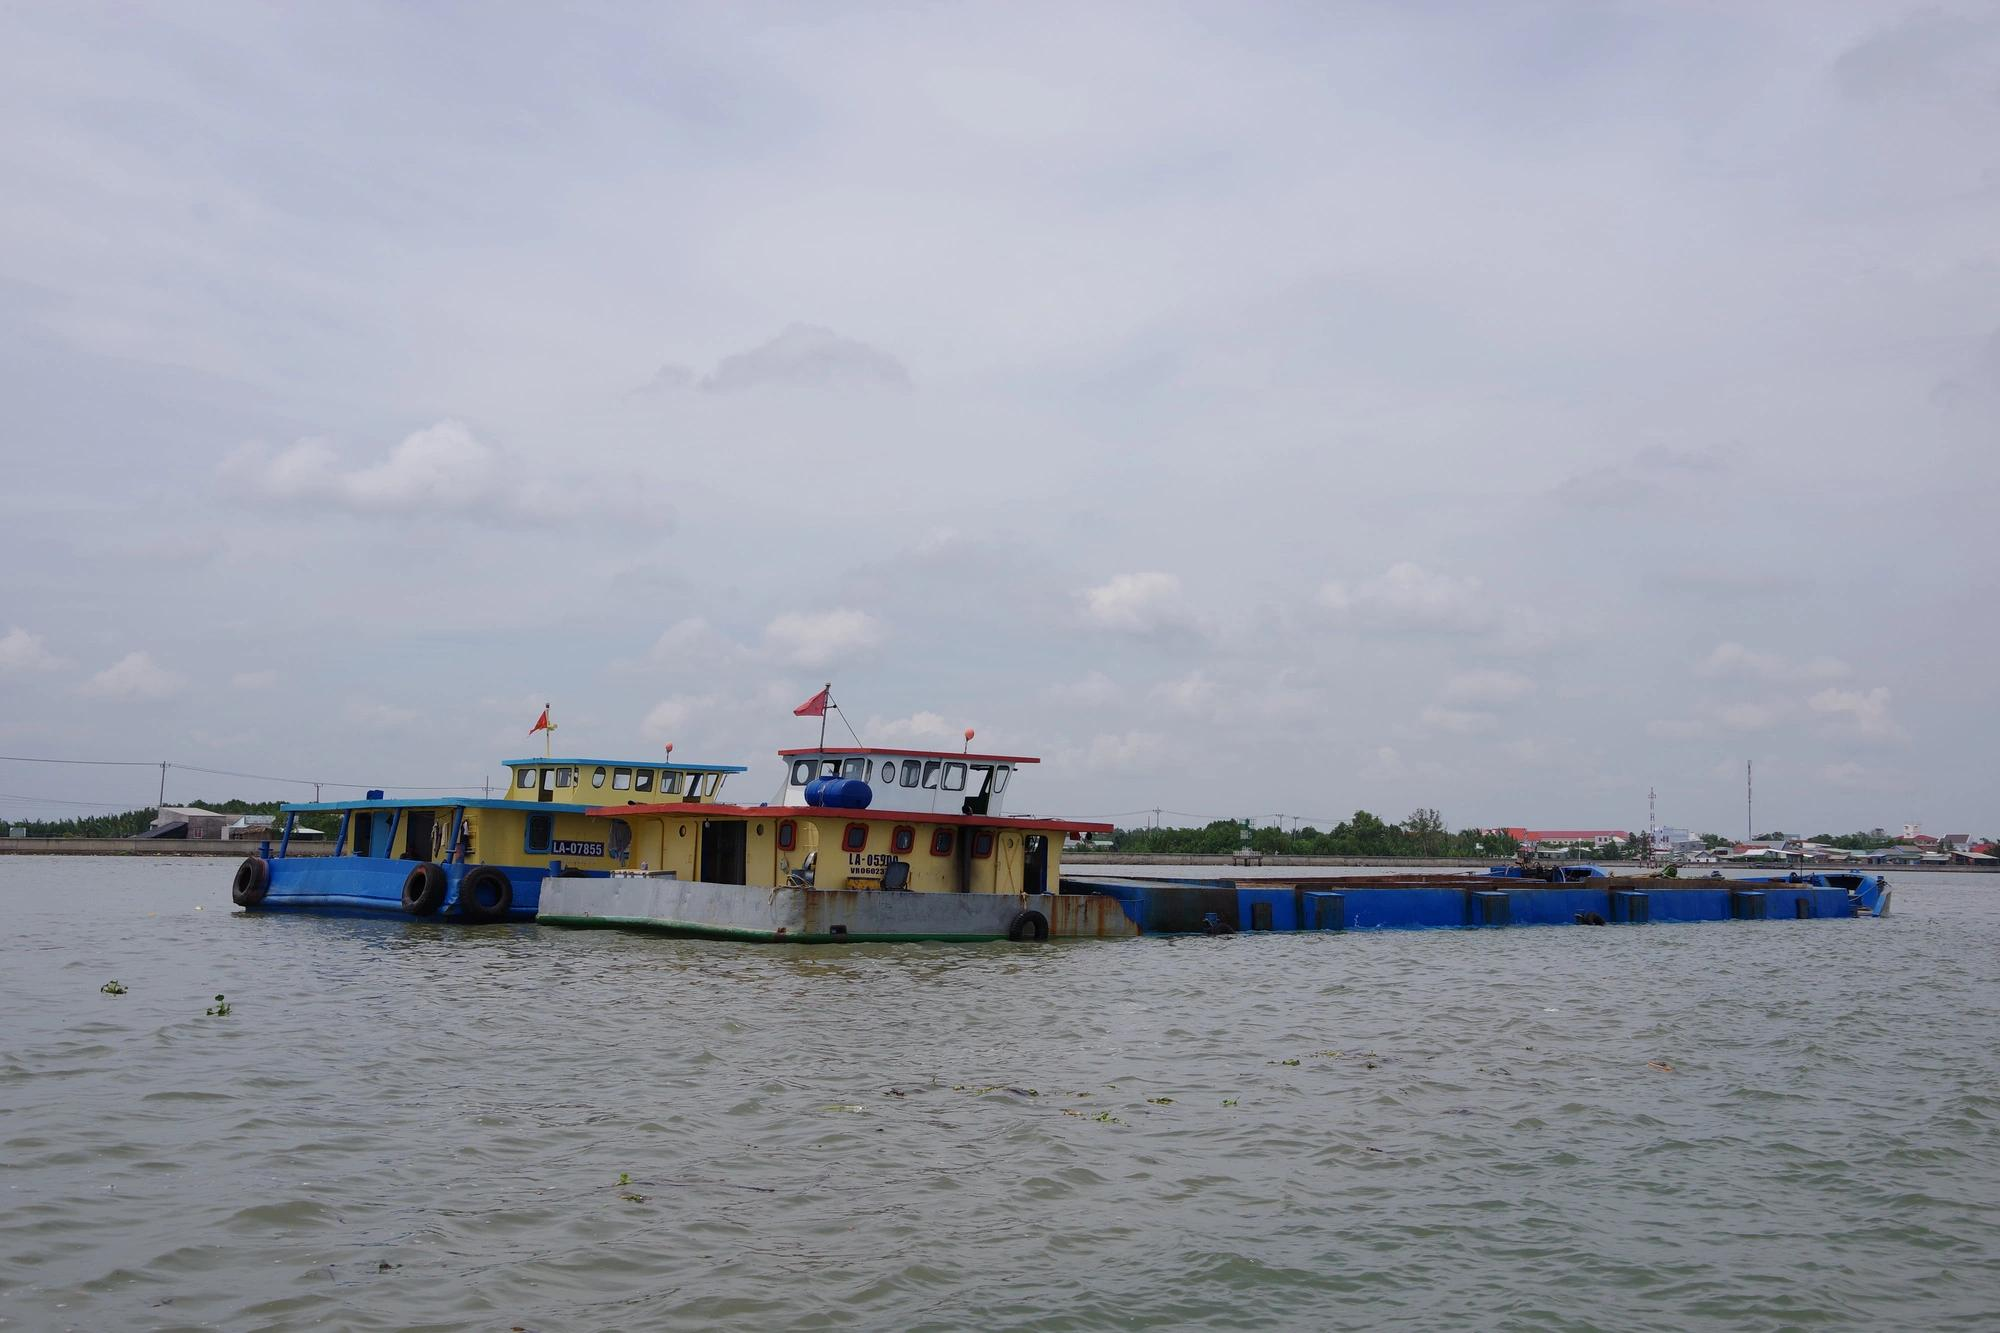Ship: (532, 739, 1926, 960)
